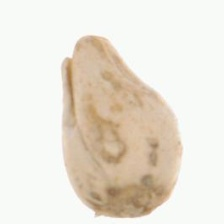L1: (61, 35, 111, 69), (89, 198, 157, 219)
L2: (60, 35, 181, 219)
